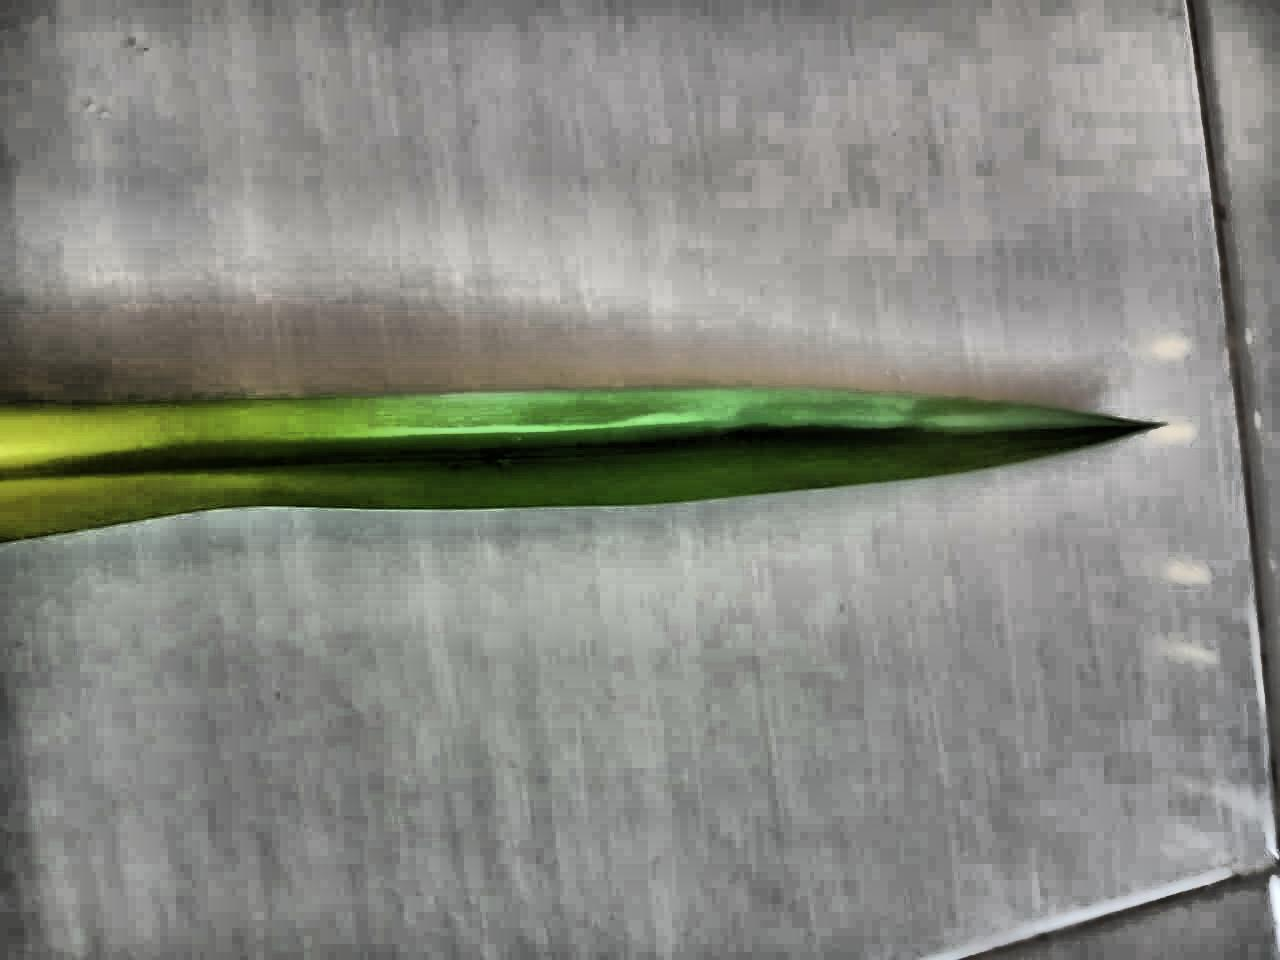daun pandan: (0, 387, 1152, 542)
